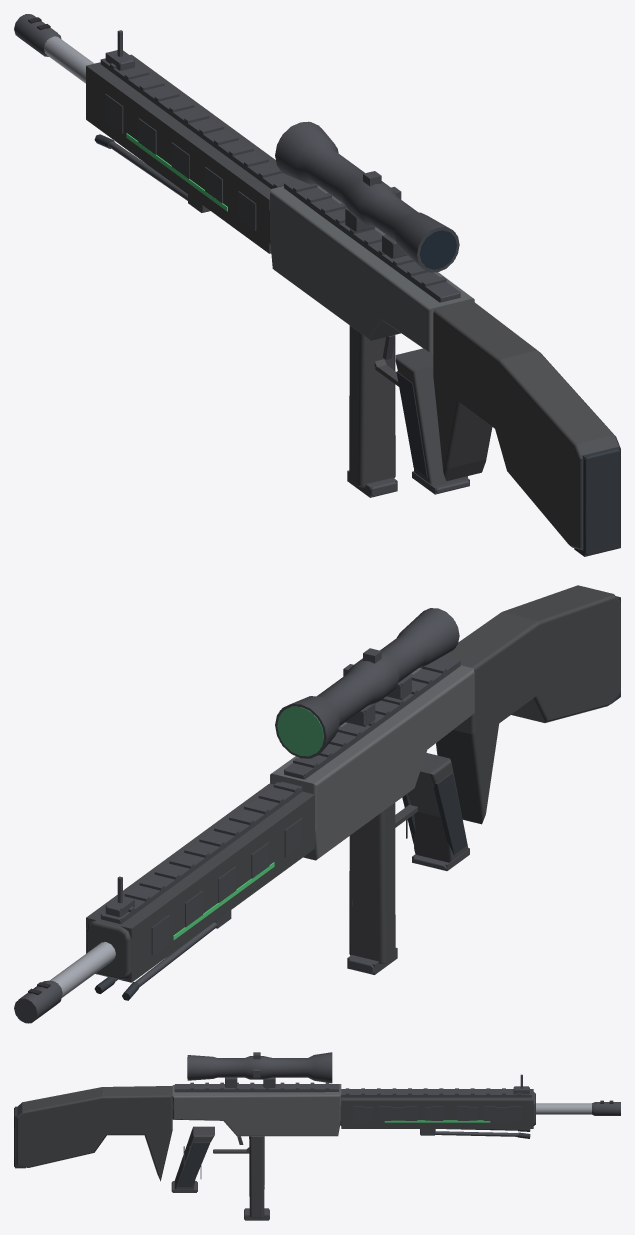
Rendered from marksman.glb.
The picture shows the model from 3 angles, top to bottom: view 1: azimuth 30°, elevation 25°; view 2: azimuth 150°, elevation 25°; view 3: azimuth 270°, elevation 25°; orthographic projection. The views are drawn at different scales.
Parts seen in each view (by area): view 1: L0, L1; view 2: L0, L1; view 3: L0, L1.
Part boxes in pixels (x1,y1,x2,y2): L0: [14, 14, 620, 556]; L1: [15, 15, 620, 556]; L0: [14, 585, 620, 1023]; L1: [14, 596, 620, 1023]; L0: [14, 1052, 620, 1219]; L1: [15, 1052, 620, 1220].
Size of the model in its own units: 0.052 by 0.3 by 1.01.
